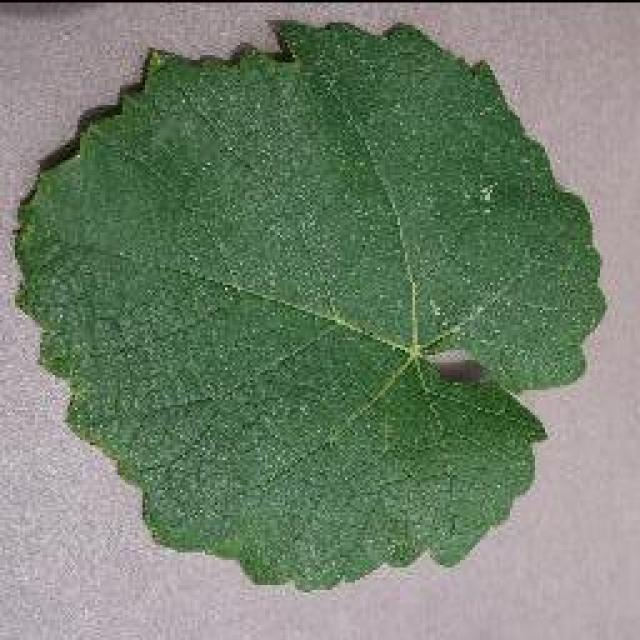Grape___healthy: (18, 22, 602, 585)
